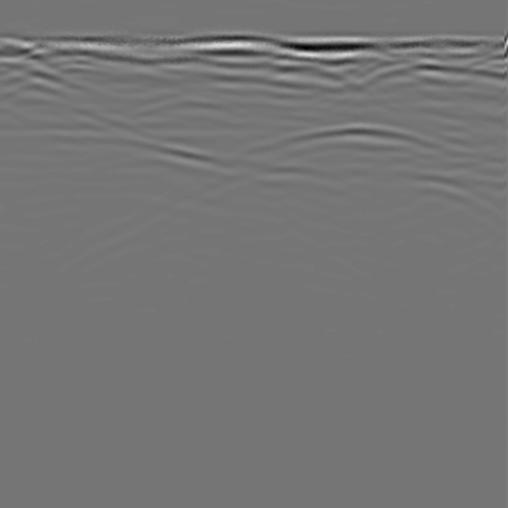hyperbola: (207, 109, 484, 222)
